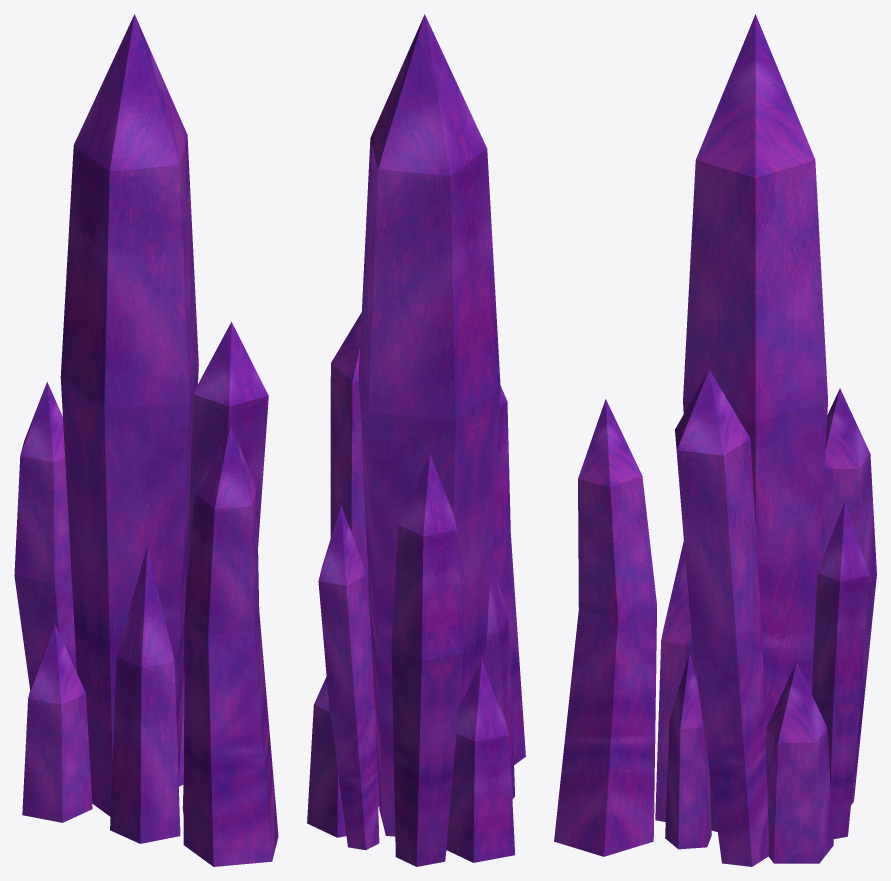
File: Crystals3.DAE
3 renders of one model, left to right at view 1: azimuth 30°, elevation 25°; view 2: azimuth 150°, elevation 25°; view 3: azimuth 270°, elevation 25°, orthographic. The views are drawn at different scales.
Visible parts, largest first — view 1: Cylinder002; view 2: Cylinder002; view 3: Cylinder002.
Boxes of the visible parts, x1,y1,x2,y2 form: Cylinder002: (14, 14, 278, 866); Cylinder002: (307, 14, 525, 866); Cylinder002: (554, 14, 876, 866).
Bounding box in the file's own units: 0.5459 × 0.7173 × 1.98.
Materials: 1 (1 with a texture image).
